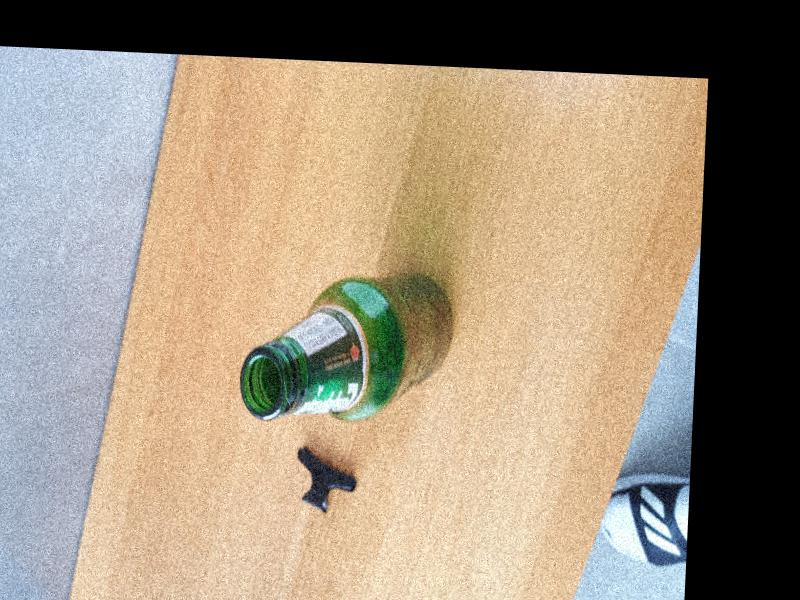Beer: (238, 264, 457, 429)
